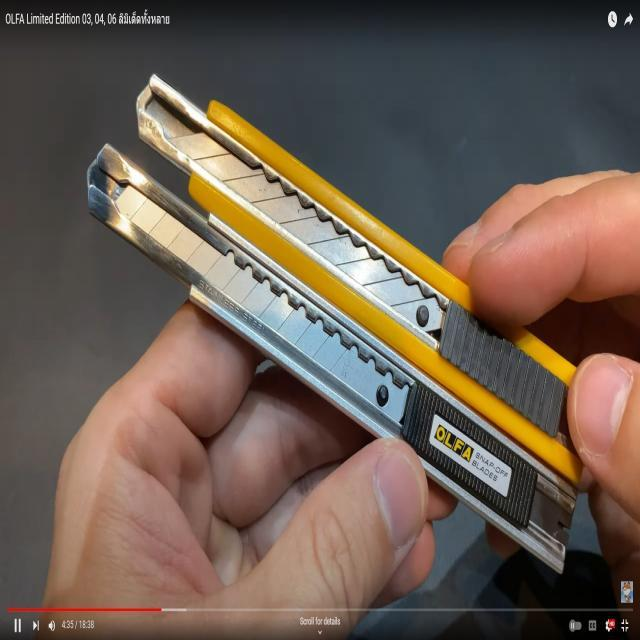cutter: (61, 51, 640, 586)
